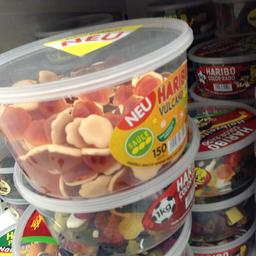candy: (0, 12, 193, 198), (15, 174, 193, 252)
